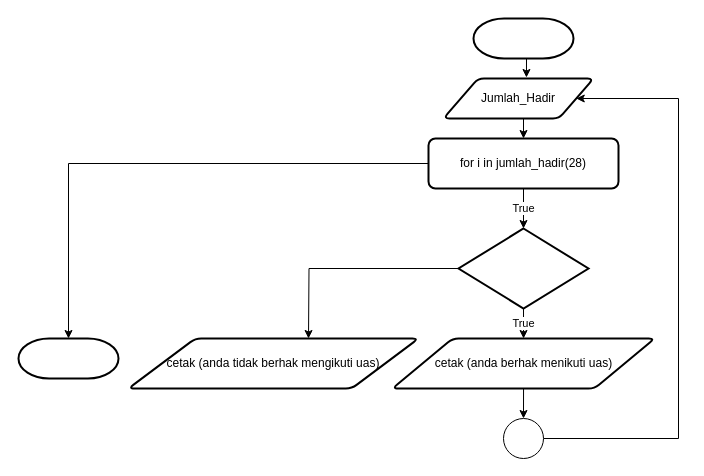
Image size: 704x476. Some labels were removed from this diagram. Here are the shapes that lost their labels. From the top down, the centre of each, then its label:
At [523,38]: "Start".
At [523,268]: "f (jumla_hadir >=21)".
